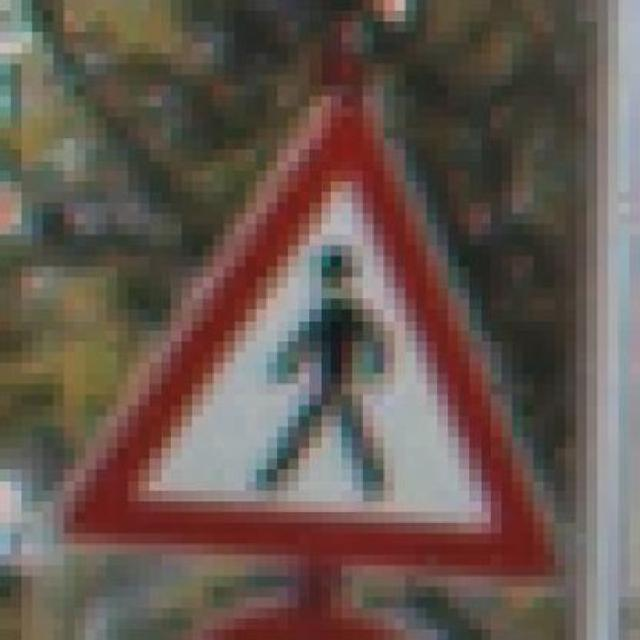Pedestrian Crossing: (61, 47, 574, 591)
